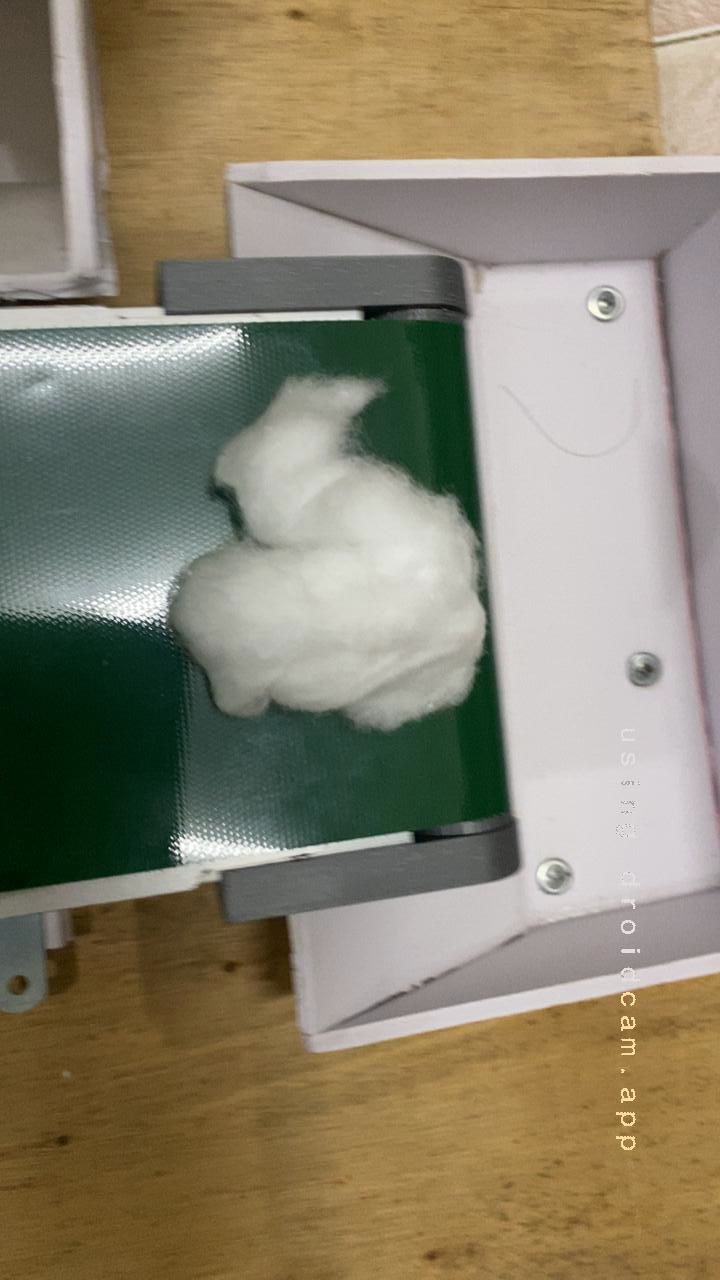cotton: (135, 344, 497, 752)
